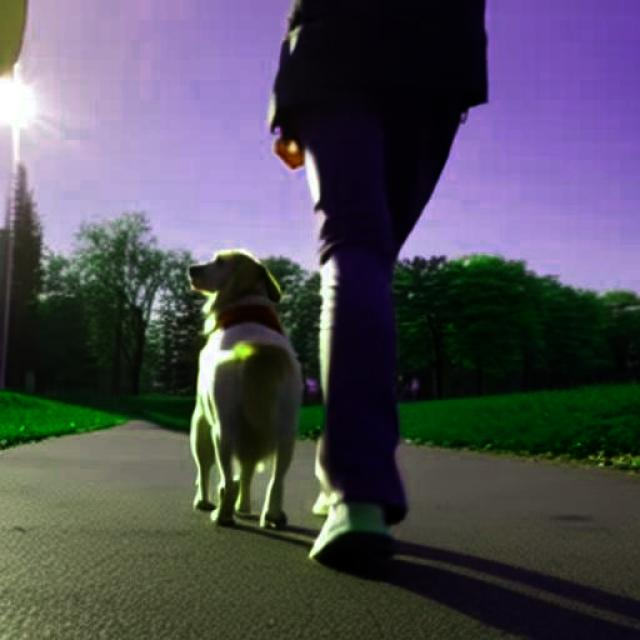Unleashed_Dog: (187, 91, 405, 531)
